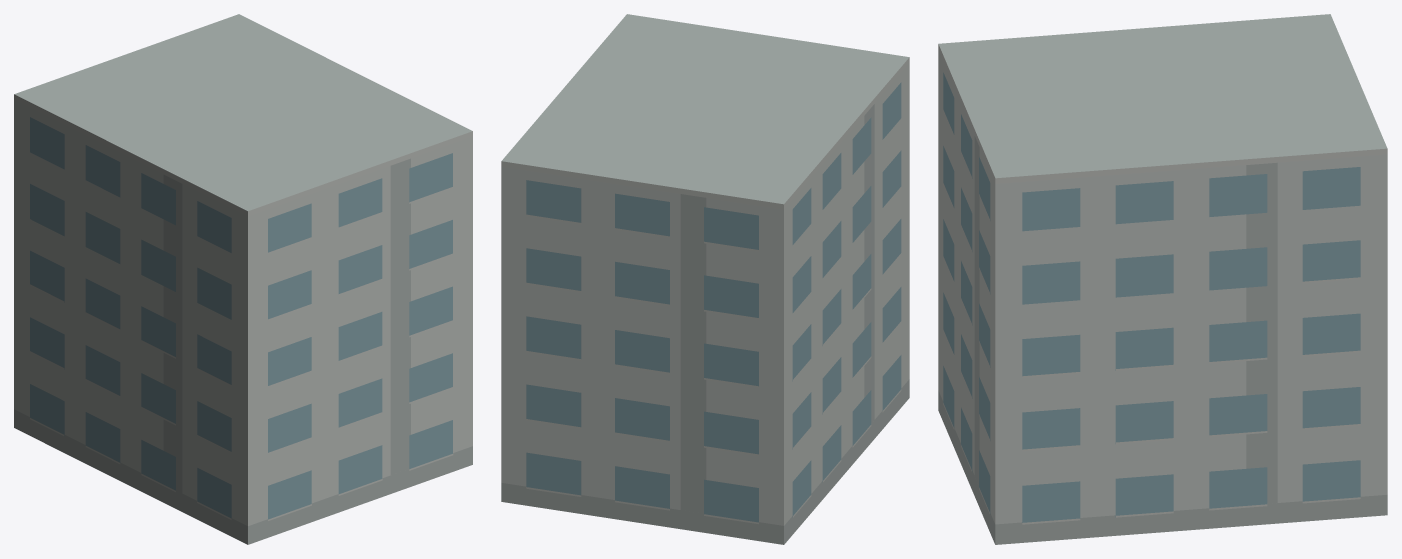
Rendered from residential-f1404f31-85e9-44d7-bf91-47e1cf031ee6.glb.
3 views of the same model, side by side, from view 1: azimuth 30°, elevation 25°; view 2: azimuth 150°, elevation 25°; view 3: azimuth 270°, elevation 25° (orthographic). The views are drawn at different scales.
Visible parts, largest first — view 1: residential-f1404f31-85e9-44d7-bf91-47e1cf031ee6.tmp; view 2: residential-f1404f31-85e9-44d7-bf91-47e1cf031ee6.tmp; view 3: residential-f1404f31-85e9-44d7-bf91-47e1cf031ee6.tmp.
Part boxes in pixels (x1=…): residential-f1404f31-85e9-44d7-bf91-47e1cf031ee6.tmp: x1=14, y1=14, x2=472, y2=544; residential-f1404f31-85e9-44d7-bf91-47e1cf031ee6.tmp: x1=501, y1=14, x2=909, y2=544; residential-f1404f31-85e9-44d7-bf91-47e1cf031ee6.tmp: x1=938, y1=14, x2=1387, y2=544.
Bounding box in the file's own units: 14.66 × 15.25 × 16.94.
